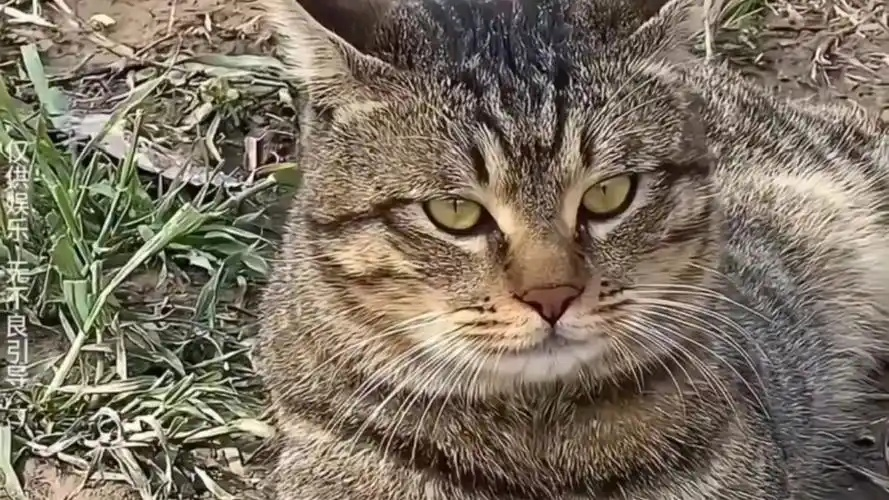狸花猫: (261, 4, 705, 497), (477, 14, 888, 496)
